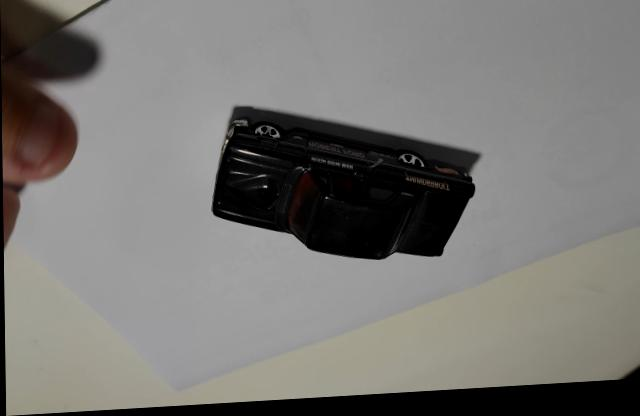01_FORD: (212, 107, 475, 264)
